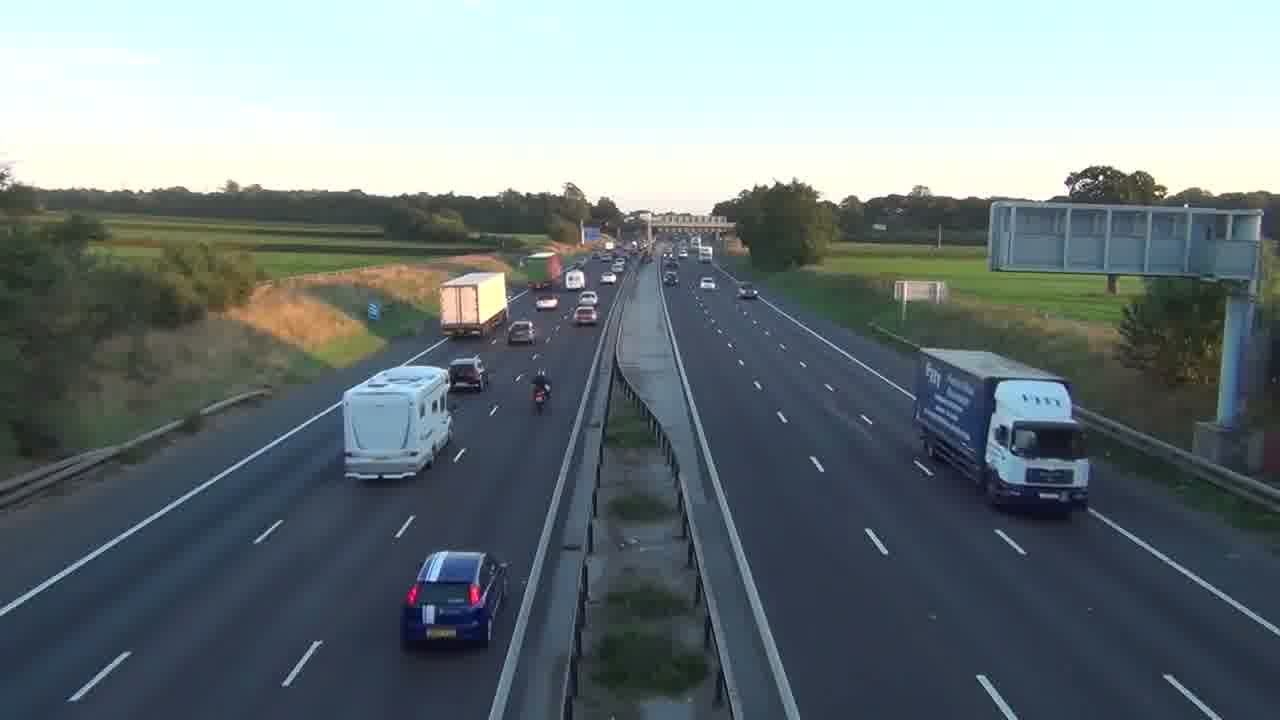car: (399, 548, 510, 649), (448, 354, 487, 392), (508, 320, 534, 345), (574, 305, 597, 326), (699, 276, 716, 290)
truck: (910, 348, 1091, 514), (342, 364, 453, 480), (438, 269, 509, 340)
